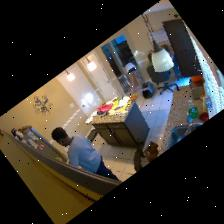person: (51, 128, 119, 181)
